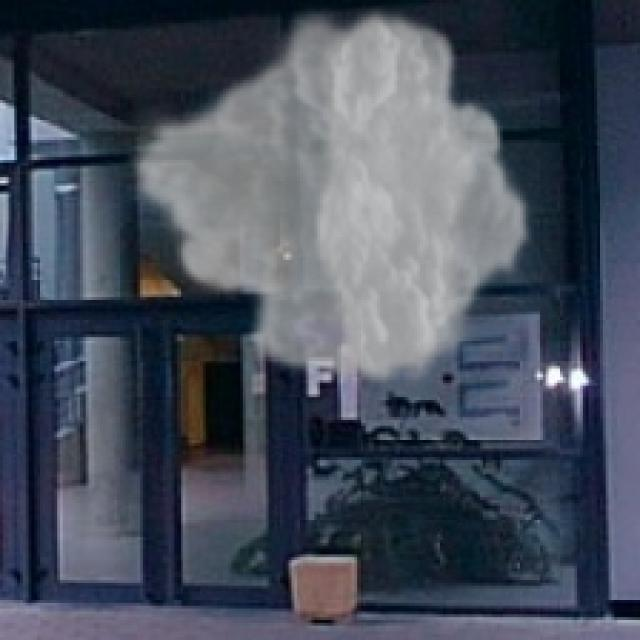smoke: (125, 0, 535, 395)
